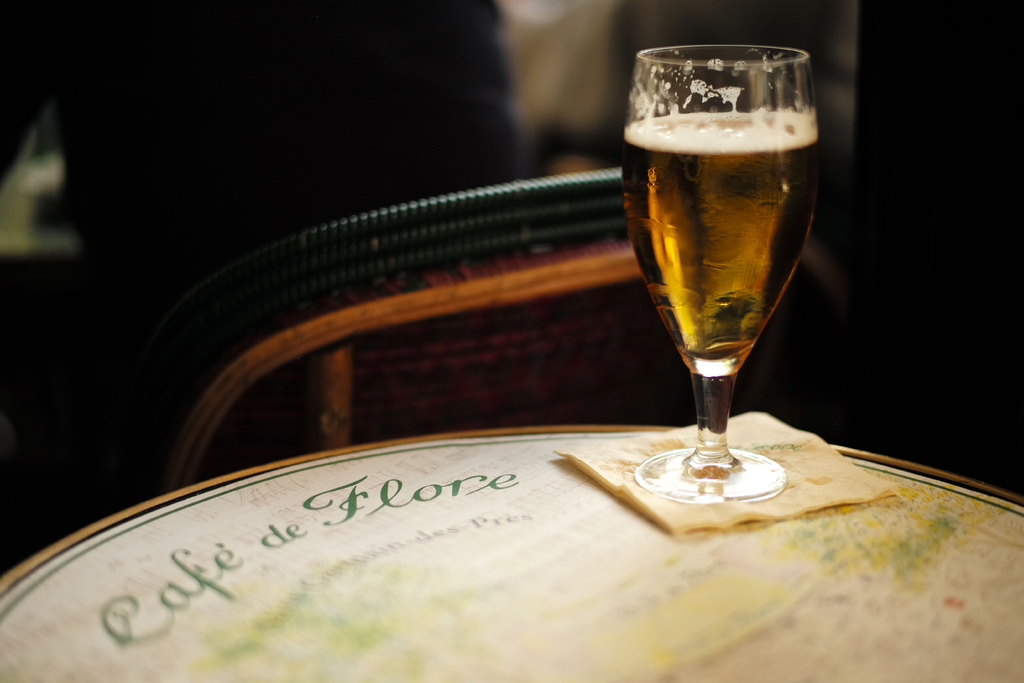Beer: (623, 107, 828, 387)
